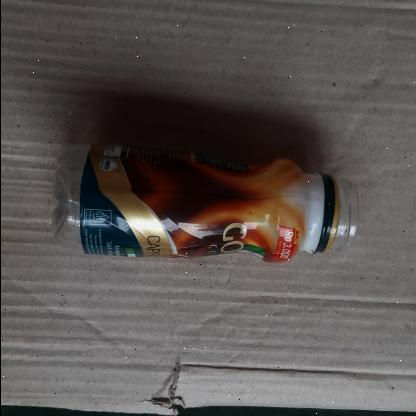Plastic Bottle: (47, 143, 360, 265)
